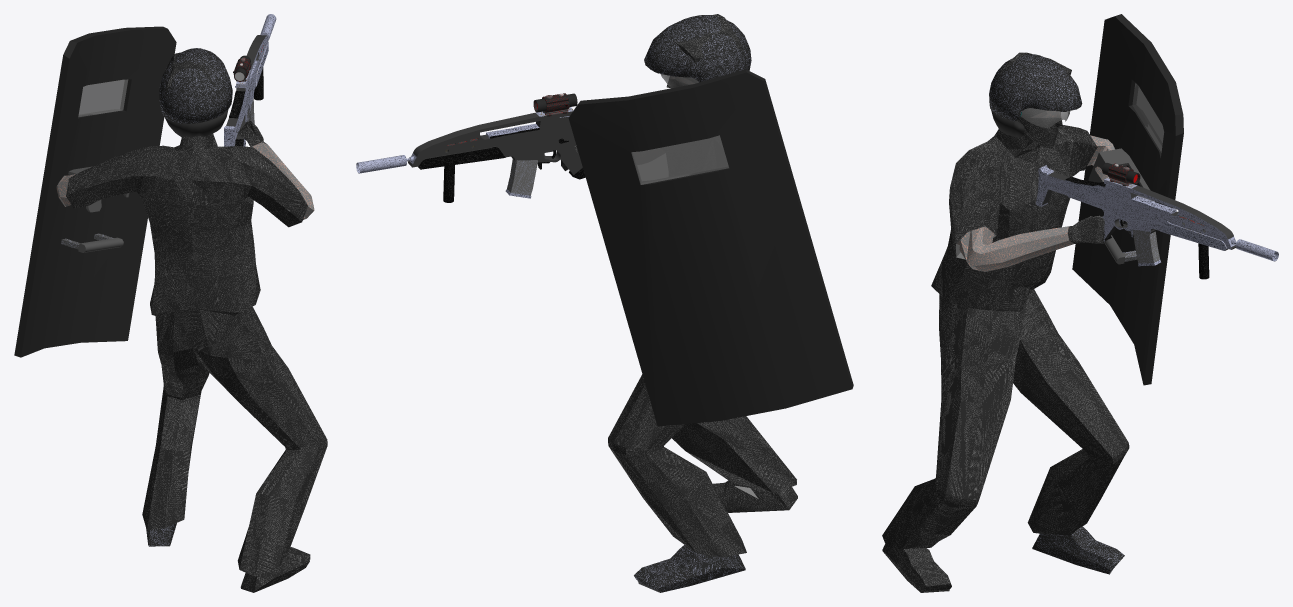
Rendered from Officer4.fbx.
3 renders of one model, left to right at view 1: azimuth 30°, elevation 25°; view 2: azimuth 150°, elevation 25°; view 3: azimuth 270°, elevation 25°, orthographic. The views are drawn at different scales.
Visible parts, largest first — view 1: ember4_1, Group3, Group5, Group2, skeC4_1_1, Group6, Handel1; view 2: Group3, ember4_1, Group2, Group5, skeC4_1_1, reddotscope1975_11_21_23_39_45__0700_1; view 3: ember4_1, Group3, Group2, Group5, skeC4_1_1, Group4, GIe_HELMET_2_1, reddotscope1975_11_21_23_39_45__0700_1.
Boxes of the visible parts, x1=… form: ember4_1: x1=56, y1=52, x2=327, y2=592; Group3: x1=14, y1=26, x2=176, y2=357; Group5: x1=159, y1=48, x2=232, y2=123; Group2: x1=224, y1=14, x2=276, y2=146; skeC4_1_1: x1=61, y1=79, x2=128, y2=249; Group6: x1=164, y1=110, x2=228, y2=137; Handel1: x1=78, y1=237, x2=123, y2=252; Group3: x1=568, y1=69, x2=853, y2=426; ember4_1: x1=561, y1=14, x2=797, y2=592; Group2: x1=356, y1=107, x2=585, y2=202; Group5: x1=644, y1=15, x2=751, y2=82; skeC4_1_1: x1=631, y1=135, x2=728, y2=184; reddotscope1975_11_21_23_39_45__0700_1: x1=533, y1=93, x2=577, y2=116; ember4_1: x1=882, y1=52, x2=1133, y2=592; Group3: x1=1072, y1=14, x2=1183, y2=385; Group2: x1=1035, y1=165, x2=1278, y2=279; Group5: x1=989, y1=54, x2=1082, y2=121; skeC4_1_1: x1=1101, y1=83, x2=1164, y2=261; Group4: x1=1088, y1=148, x2=1154, y2=201; GIe_HELMET_2_1: x1=1020, y1=108, x2=1070, y2=127; reddotscope1975_11_21_23_39_45__0700_1: x1=1102, y1=163, x2=1140, y2=186.
Size of the model in its own units: 1.25 by 1.65 by 1.17.
